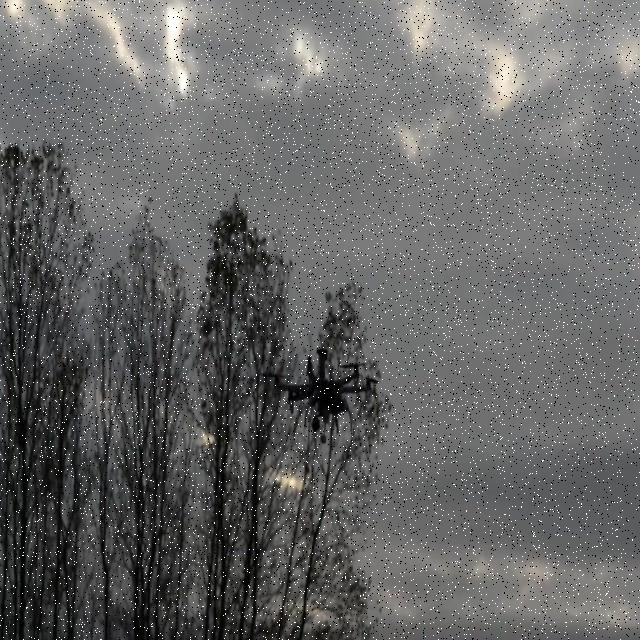UAV: (260, 348, 380, 444)
